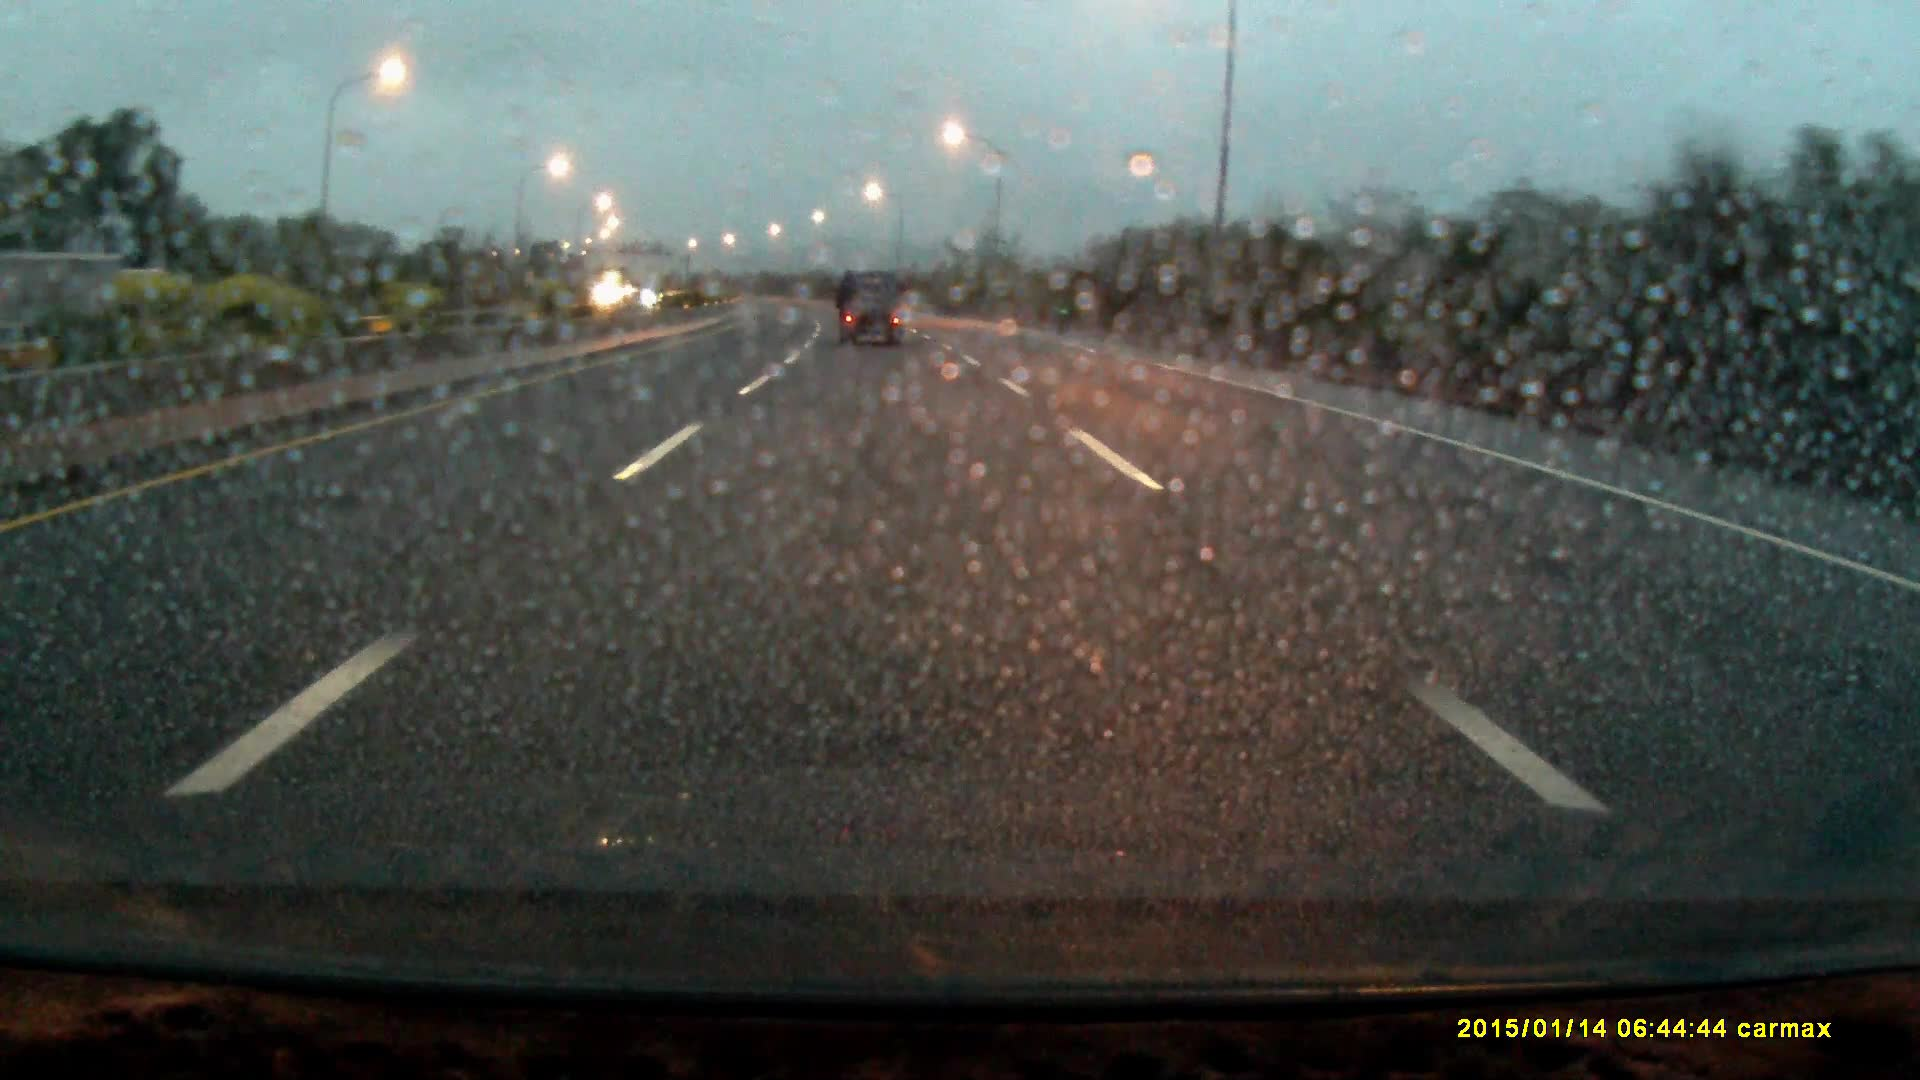vehicle: (837, 274, 909, 353)
